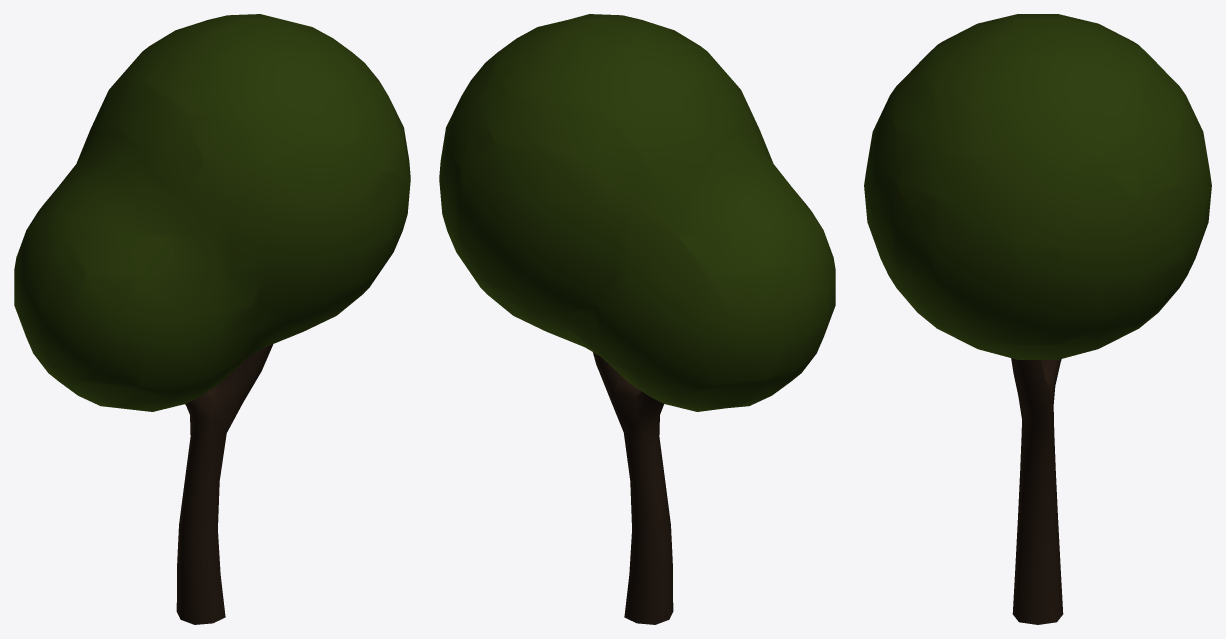
File: Tree_4.obj
The picture shows the model from 3 angles, left to right: view 1: azimuth 30°, elevation 25°; view 2: azimuth 150°, elevation 25°; view 3: azimuth 270°, elevation 25°; orthographic projection. The views are drawn at different scales.
Parts seen in each view (by area): view 1: Tree_4_Cube.041; view 2: Tree_4_Cube.041; view 3: Tree_4_Cube.041.
Boxes of the visible parts, bbox=[...] form: Tree_4_Cube.041: bbox=[14, 14, 410, 624]; Tree_4_Cube.041: bbox=[439, 14, 835, 624]; Tree_4_Cube.041: bbox=[864, 14, 1211, 624].
Size of the model in its own units: 3.3 by 5.08 by 2.63.
